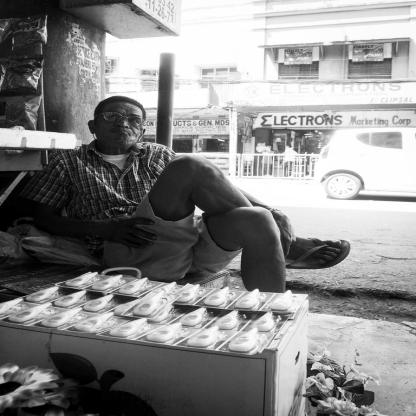Car: (313, 127, 416, 199)
